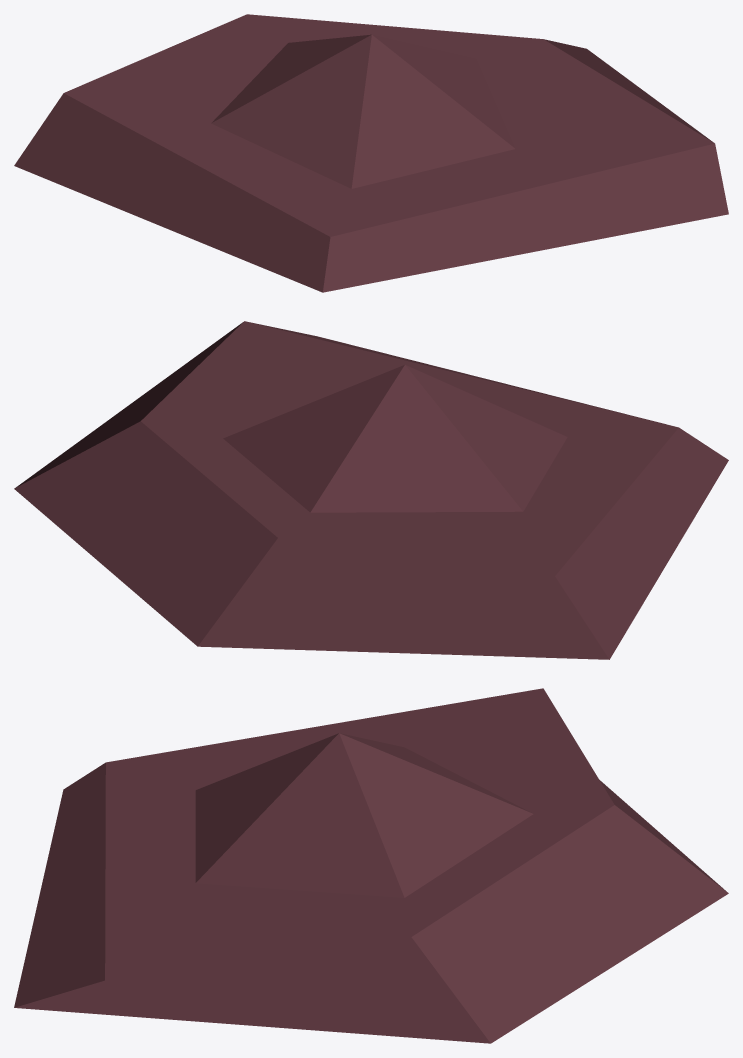
The model's file is SM_Egg_Fried.fbx.
3 renders of one model, top to bottom at view 1: azimuth 30°, elevation 25°; view 2: azimuth 150°, elevation 25°; view 3: azimuth 270°, elevation 25°, orthographic. The views are drawn at different scales.
Visible parts, largest first — view 1: SM_Egg_Fried; view 2: SM_Egg_Fried; view 3: SM_Egg_Fried.
Boxes of the visible parts, x1,y1,x2,y2 form: SM_Egg_Fried: [14, 14, 728, 292]; SM_Egg_Fried: [14, 321, 728, 659]; SM_Egg_Fried: [14, 688, 728, 1043].
Size of the model in its own units: 0.2968 by 0.0672 by 0.2876.
